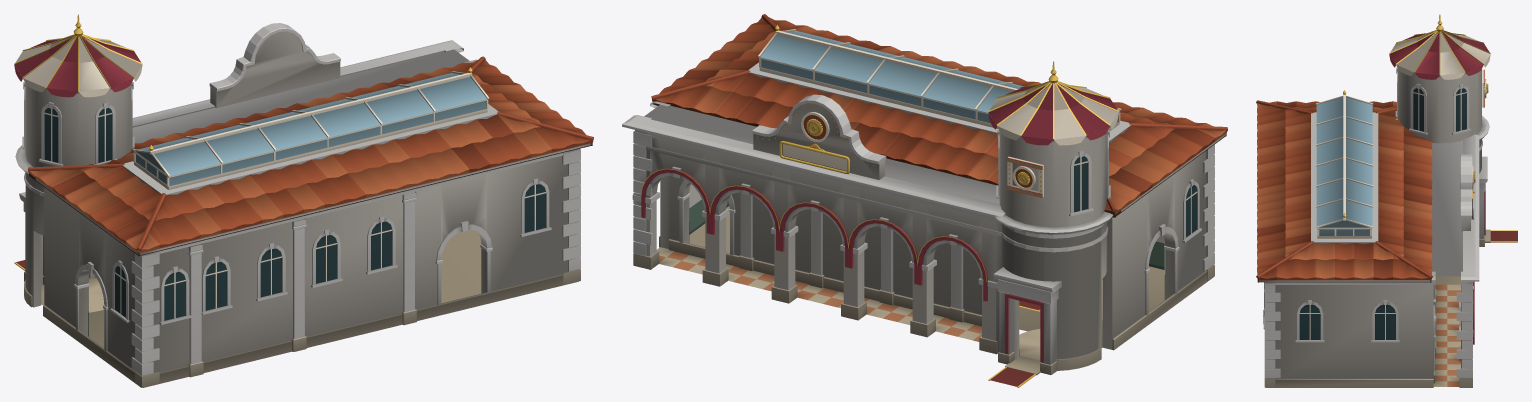
Rendered from pav_kursaal_v3.glb.
3 views of the same model, side by side, from view 1: azimuth 30°, elevation 25°; view 2: azimuth 150°, elevation 25°; view 3: azimuth 270°, elevation 25° (orthographic). The views are drawn at different scales.
Parts seen in each view (by area): view 1: static_kursaal; view 2: static_kursaal, live_interior_finish; view 3: static_kursaal.
Part boxes in pixels (x1,y1,x2,y2): static_kursaal: [14, 14, 593, 387]; static_kursaal: [622, 14, 1227, 387]; live_interior_finish: [689, 184, 1165, 346]; static_kursaal: [1256, 14, 1517, 387].
Size of the model in its own units: 19.96 by 11.73 by 12.5.
